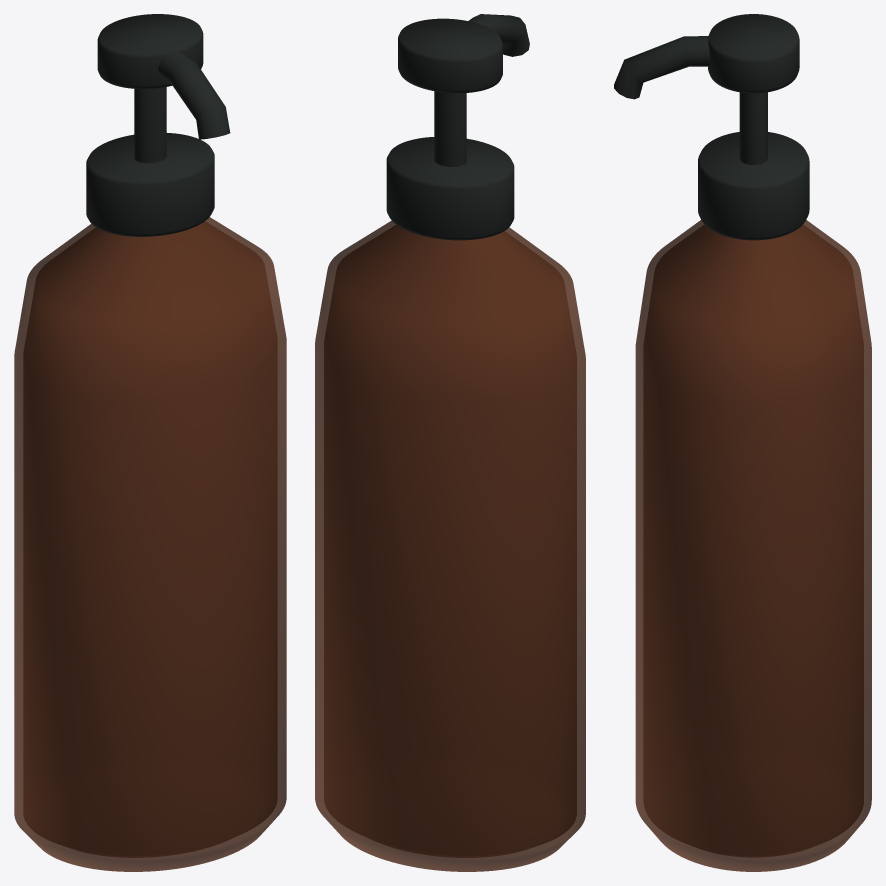
File: counter_items__amber_pump.glb
3 renders of one model, left to right at view 1: azimuth 30°, elevation 25°; view 2: azimuth 150°, elevation 25°; view 3: azimuth 270°, elevation 25°, orthographic.
Visible parts, largest first — view 1: body, pump, collar; view 2: body, collar, pump; view 3: body, pump, collar.
Boxes of the visible parts, x1,y1,x2,y2 form: body: [14, 217, 286, 871]; pump: [97, 14, 230, 163]; collar: [86, 133, 214, 236]; body: [315, 220, 585, 871]; collar: [386, 137, 514, 240]; pump: [398, 14, 529, 166]; body: [635, 220, 871, 871]; pump: [614, 14, 799, 164]; collar: [698, 132, 809, 240].
Size of the model in its own units: 0.0738 by 0.2282 by 0.0679.
